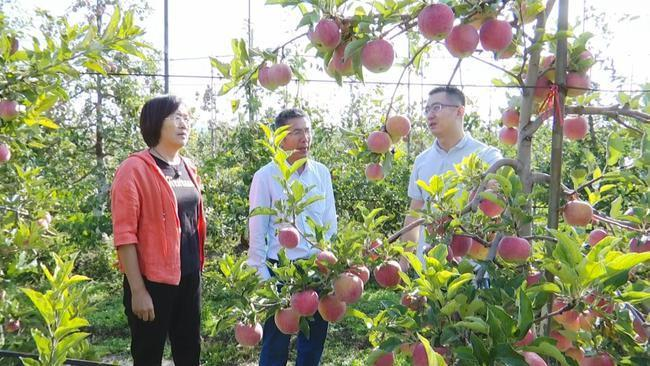apple: (415, 3, 455, 42), (479, 19, 513, 53), (362, 38, 394, 74), (445, 24, 478, 58), (309, 18, 342, 51), (494, 235, 531, 262), (331, 272, 363, 301), (376, 261, 405, 291), (290, 286, 318, 317), (563, 199, 592, 227), (274, 305, 301, 334), (318, 296, 346, 322), (235, 320, 264, 345), (562, 115, 590, 140), (267, 61, 292, 86), (384, 115, 411, 137), (366, 131, 391, 153), (276, 227, 299, 249), (365, 163, 386, 183), (497, 127, 518, 146)
